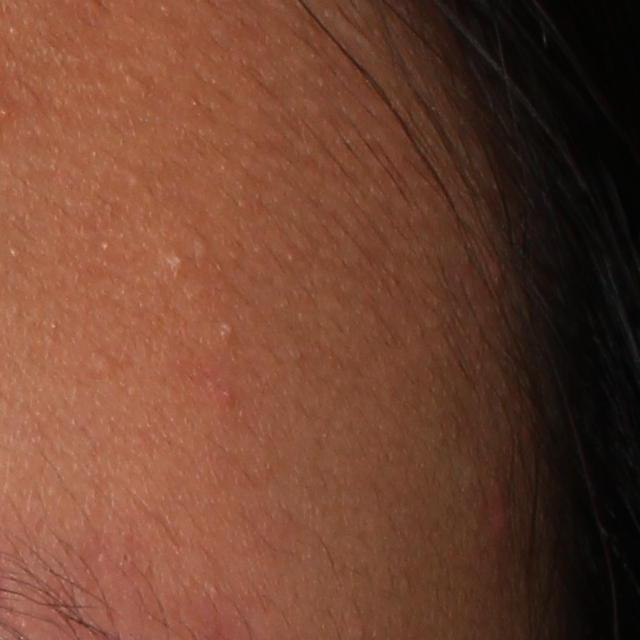comedo: (87, 349, 111, 375), (192, 236, 215, 263), (163, 248, 186, 271)
papule: (486, 499, 508, 536)
